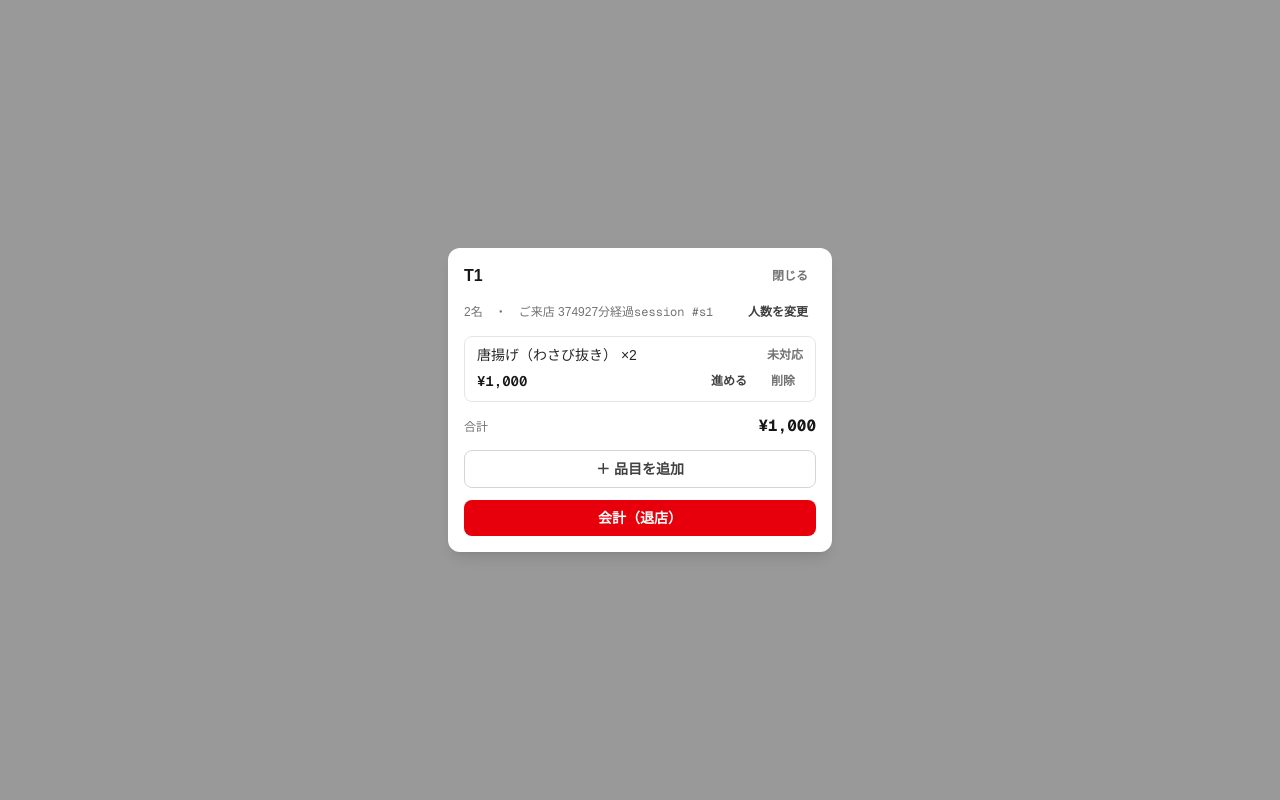
Scenario: TableDetailPanel › 品目の削除（タスク8.3、要件5.6） › 「削除」を押すと確認モーダルが対象品目名（オプション概要付き）を表示する
Click the button with aria-label "唐揚げを削除": (783, 381) top-left (763, 369), bottom-right (803, 393)
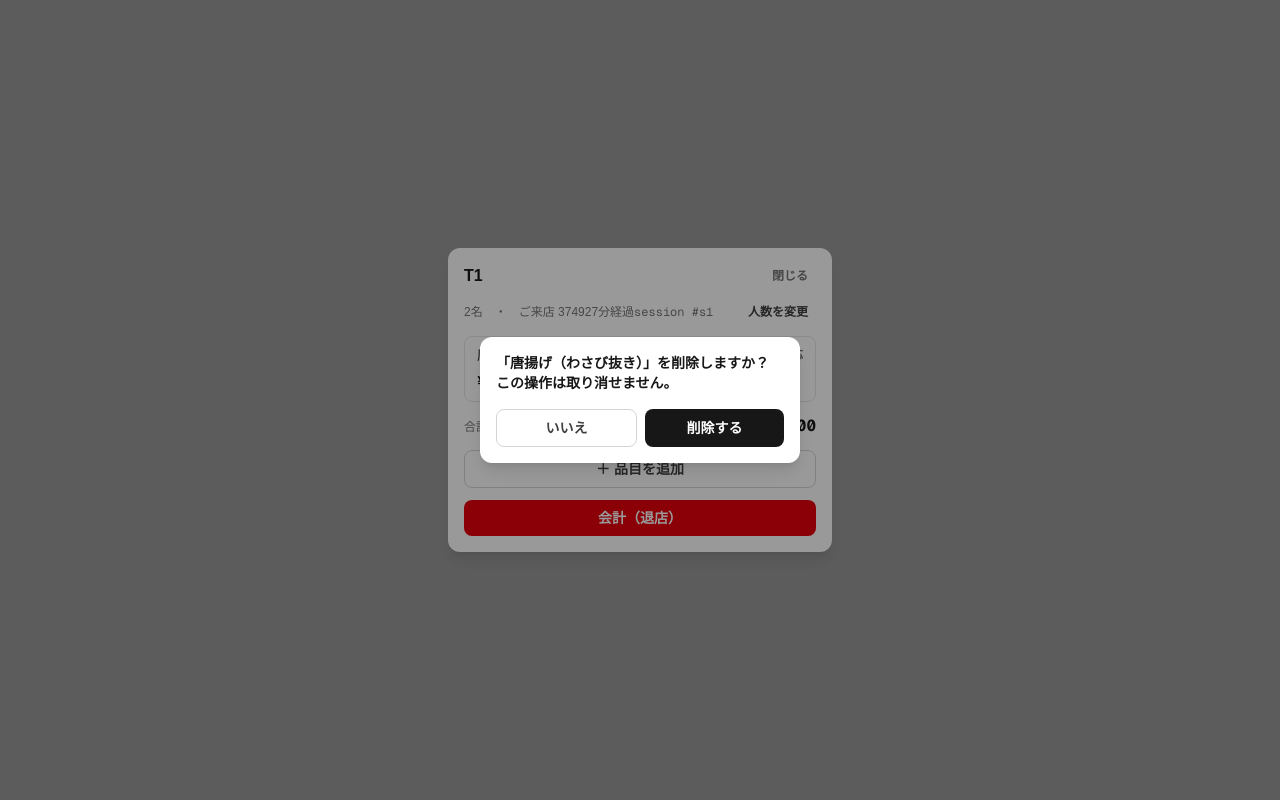
Result: the dialog with test id "register-remove-confirm" shows "唐揚げ（わさび抜き）" at top-left (496, 355), bottom-right (769, 391)
Result: the dialog with test id "register-remove-confirm" shows "削除しますか" at top-left (496, 355), bottom-right (769, 391)
